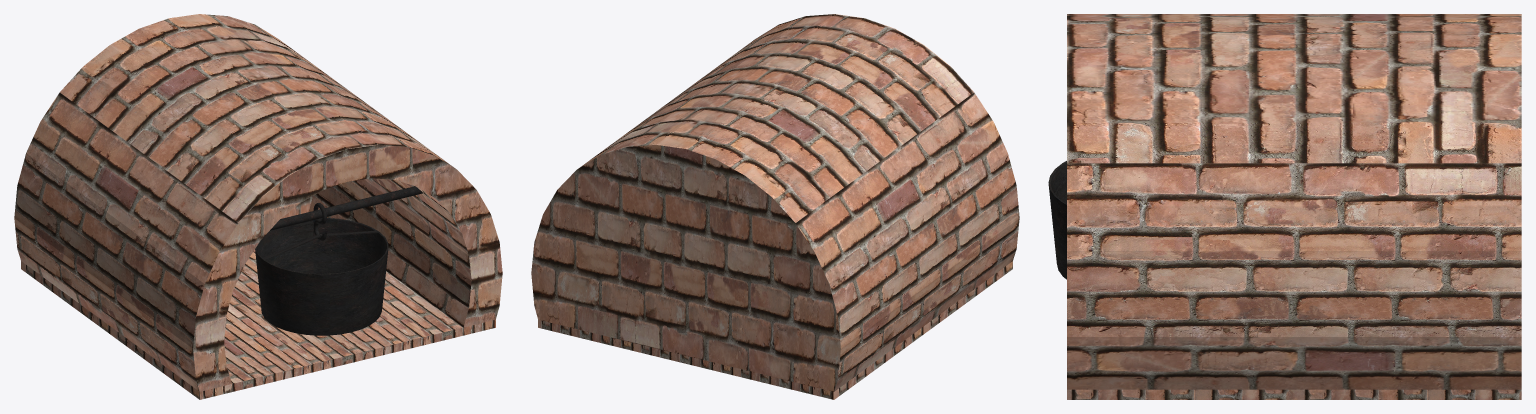
File: fireplace.glb
3 views of the same model, side by side, from view 1: azimuth 30°, elevation 25°; view 2: azimuth 150°, elevation 25°; view 3: azimuth 270°, elevation 25° (orthographic). The views are drawn at different scales.
Visible parts, largest first — view 1: fp, fp1, pot, bar; view 2: fp, fp1; view 3: fp, fp1, pot.
Boxes of the visible parts, x1,y1,x2,y2 form: fp: (14,14,502,391); fp1: (21,249,495,399); pot: (255,218,388,335); bar: (270,186,422,230); fp: (531,14,1019,391); fp1: (538,261,1012,399); fp: (1067,14,1521,389); fp1: (1067,389,1521,399); pot: (1048,161,1066,279).
Size of the model in its own units: 4 by 2.65 by 4.16.
4 materials, 4 textured.
